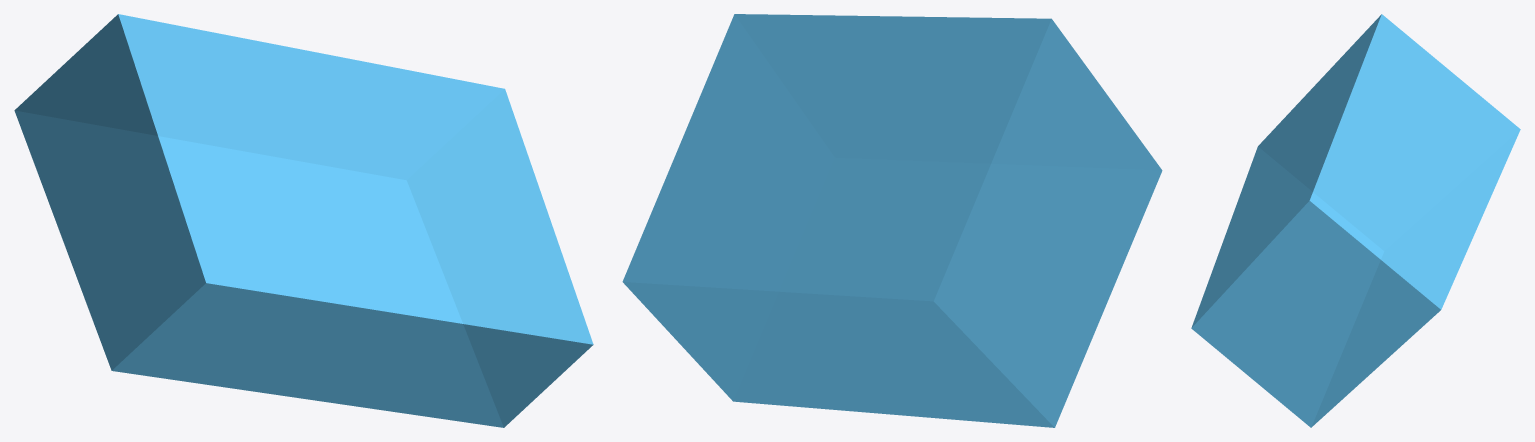
File: Event_420107950_HErechit_46.fbx
The picture shows the model from 3 angles, left to right: view 1: azimuth 30°, elevation 25°; view 2: azimuth 150°, elevation 25°; view 3: azimuth 270°, elevation 25°; orthographic projection. The views are drawn at different scales.
Visible parts, largest first — view 1: Model; view 2: Model; view 3: Model.
Boxes of the visible parts, x1,y1,x2,y2 form: Model: [14, 14, 593, 427]; Model: [622, 14, 1162, 427]; Model: [1191, 14, 1520, 427].
Bounding box in the file's own units: 0.6164 × 0.7964 × 0.7788.
